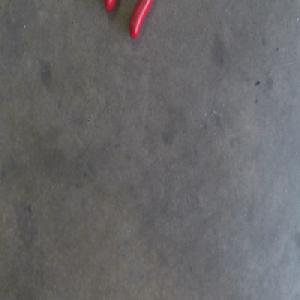Pliers: (102, 0, 151, 39)
